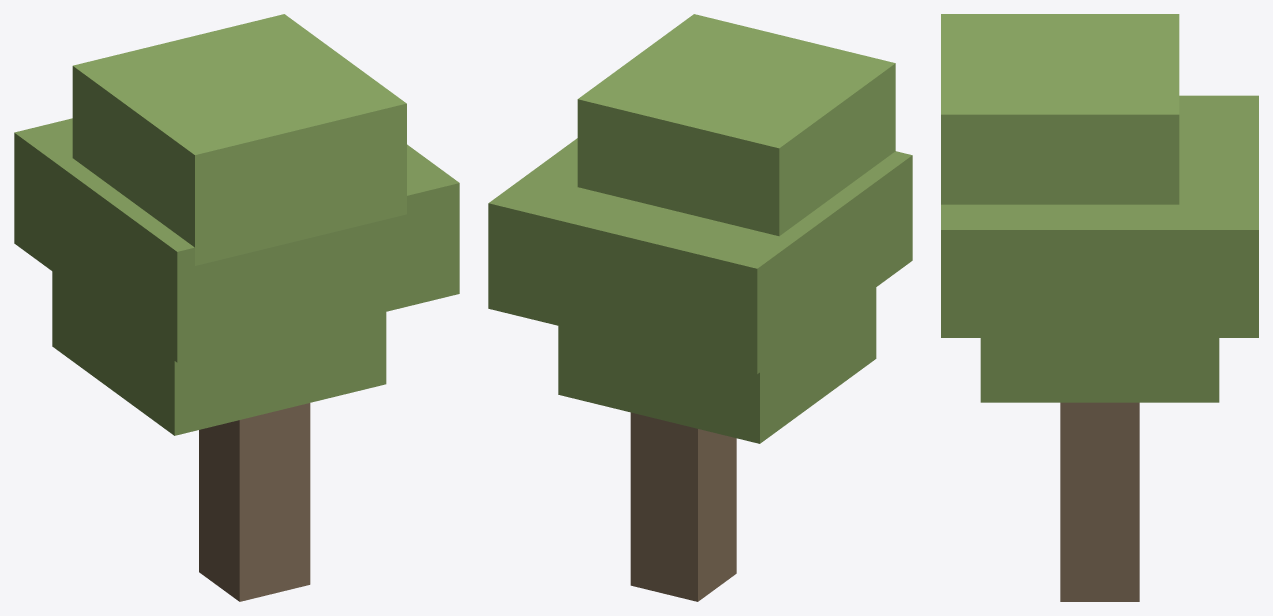
The model's file is arce_02.glb.
The picture shows the model from 3 angles, left to right: view 1: azimuth 30°, elevation 25°; view 2: azimuth 150°, elevation 25°; view 3: azimuth 270°, elevation 25°; orthographic projection. The views are drawn at different scales.
Parts seen in each view (by area): view 1: arce_02; view 2: arce_02; view 3: arce_02.
Part boxes in pixels (bbox=[...]): arce_02: bbox=[14, 14, 459, 601]; arce_02: bbox=[488, 14, 912, 601]; arce_02: bbox=[941, 14, 1258, 601].
Size of the model in its own units: 1.6 by 2.8 by 1.6.
